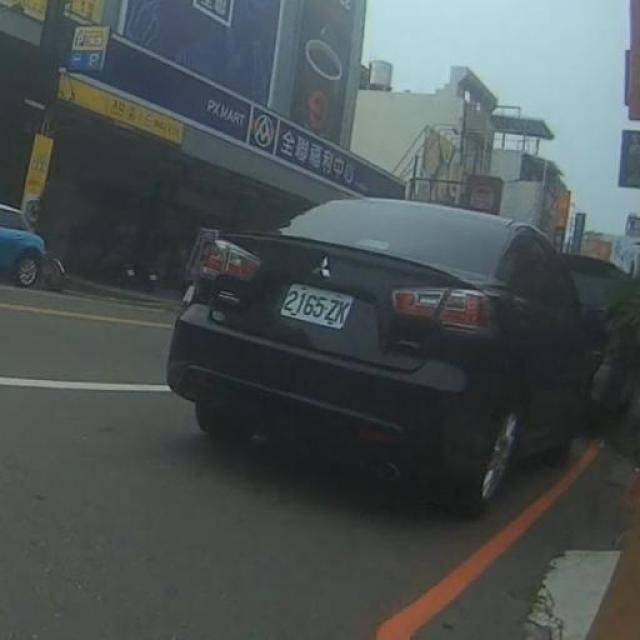Legalparking: (0, 204, 44, 286)
illegalparking: (166, 201, 586, 514)
